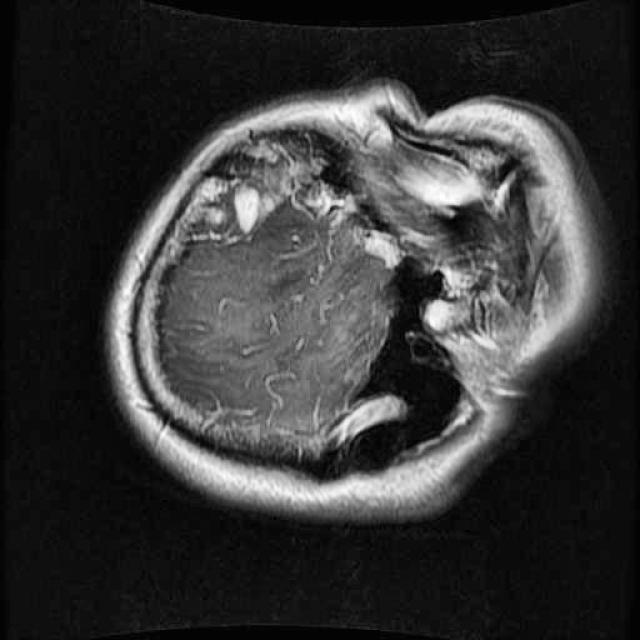Tumor: (158, 114, 352, 265)
